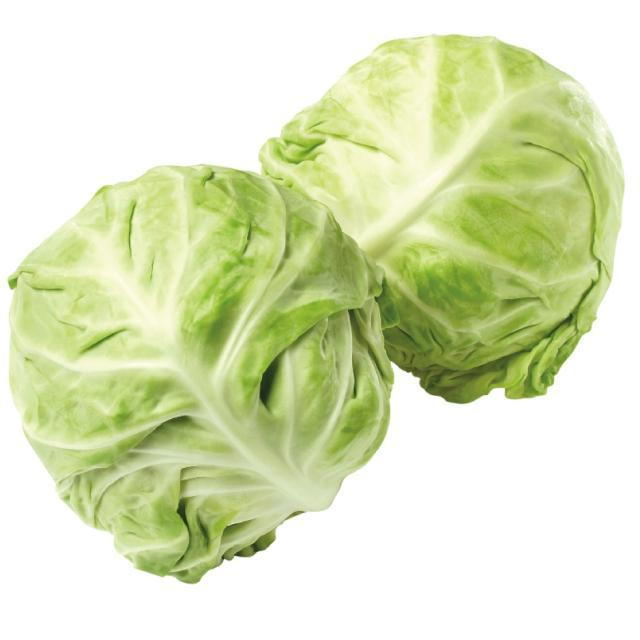cabbage: (0, 143, 391, 586), (268, 30, 616, 405)
